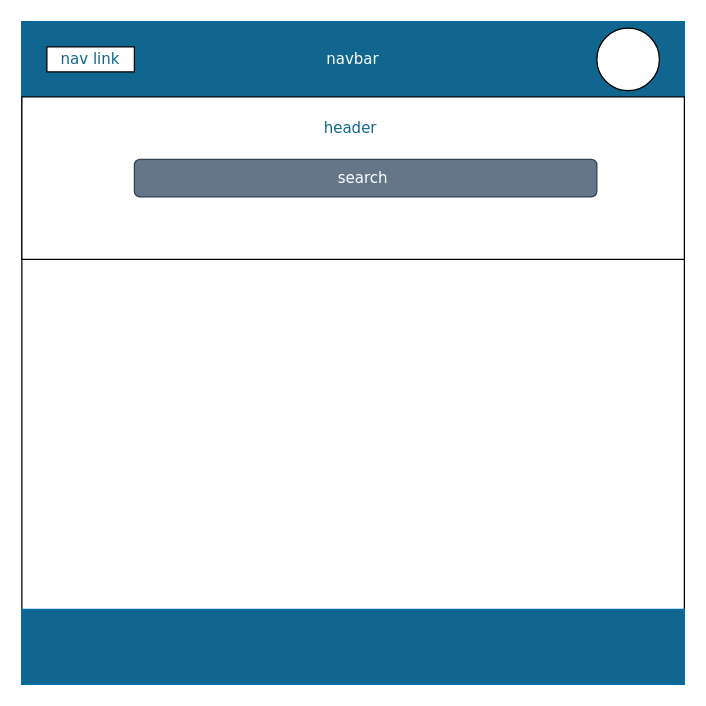
Some shapes in this 706 by 706 pixel diagram are drawn without their labels. Each missing label, with the centre of its shape:
footer: pixel 352 646
logo: pixel 627 59
